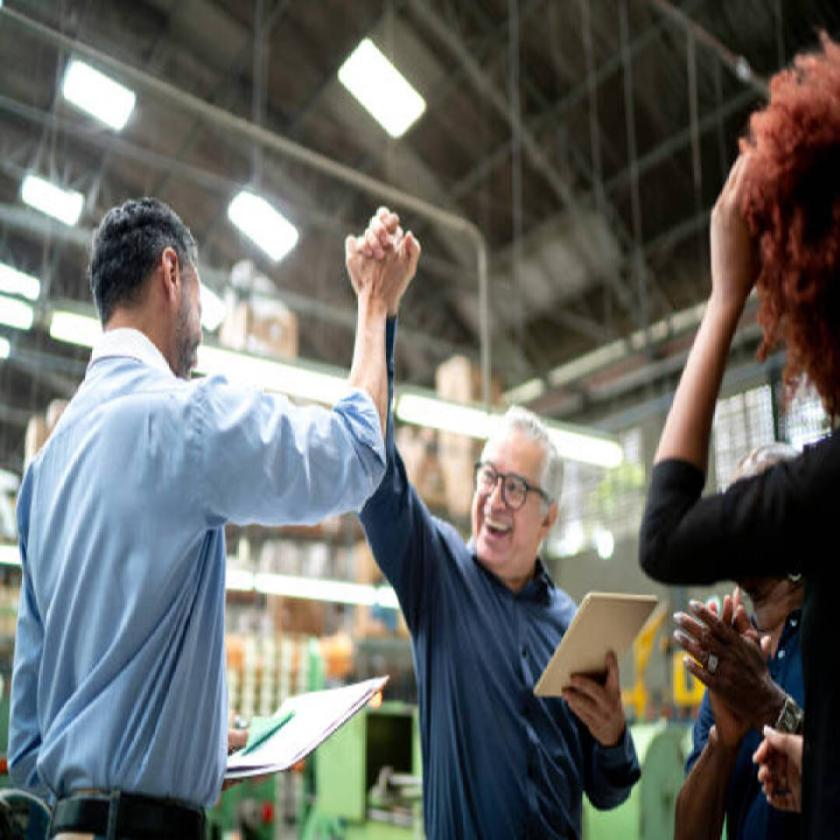Sin_casco: (83, 190, 205, 417), (470, 396, 566, 606)
